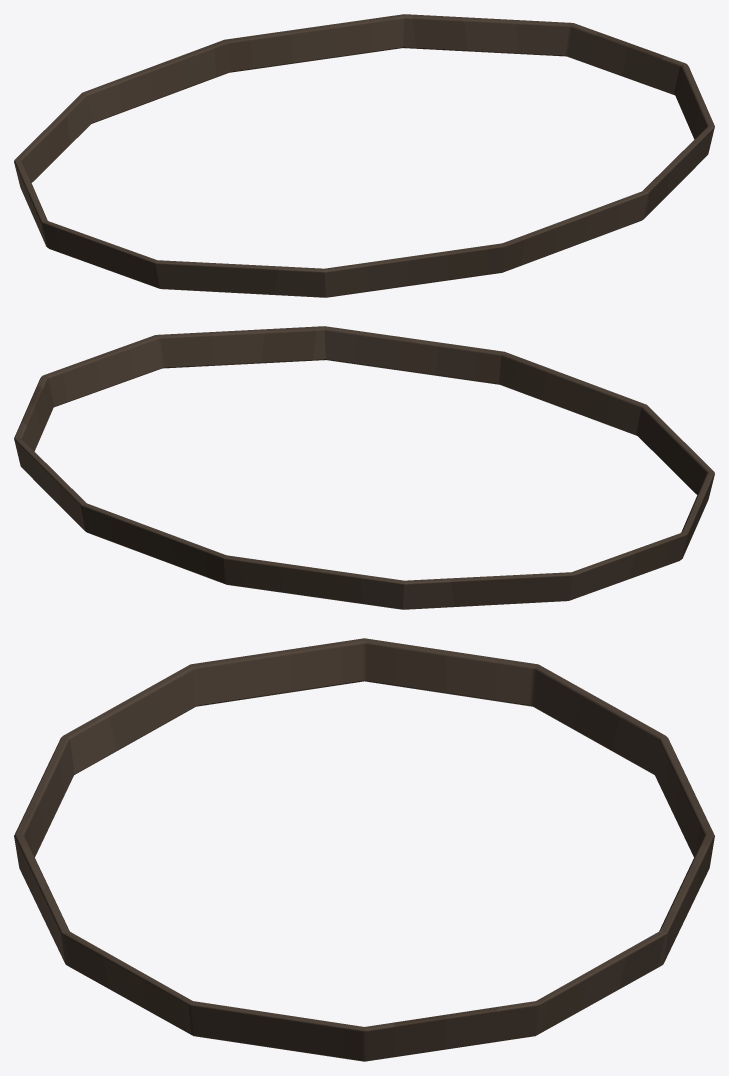
The model's file is Upper-hoop.glb.
3 renders of one model, top to bottom at view 1: azimuth 30°, elevation 25°; view 2: azimuth 150°, elevation 25°; view 3: azimuth 270°, elevation 25°, orthographic. The views are drawn at different scales.
Visible parts, largest first — view 1: Upper-hoop; view 2: Upper-hoop; view 3: Upper-hoop.
Part boxes in pixels (box(x1,y1,x2,y2)): Upper-hoop: box(14, 14, 714, 297); Upper-hoop: box(14, 326, 714, 609); Upper-hoop: box(14, 638, 714, 1061).
Bounding box in the file's own units: 0.7038 × 0.031 × 0.532.
Materials: 1 (1 with a texture image).
